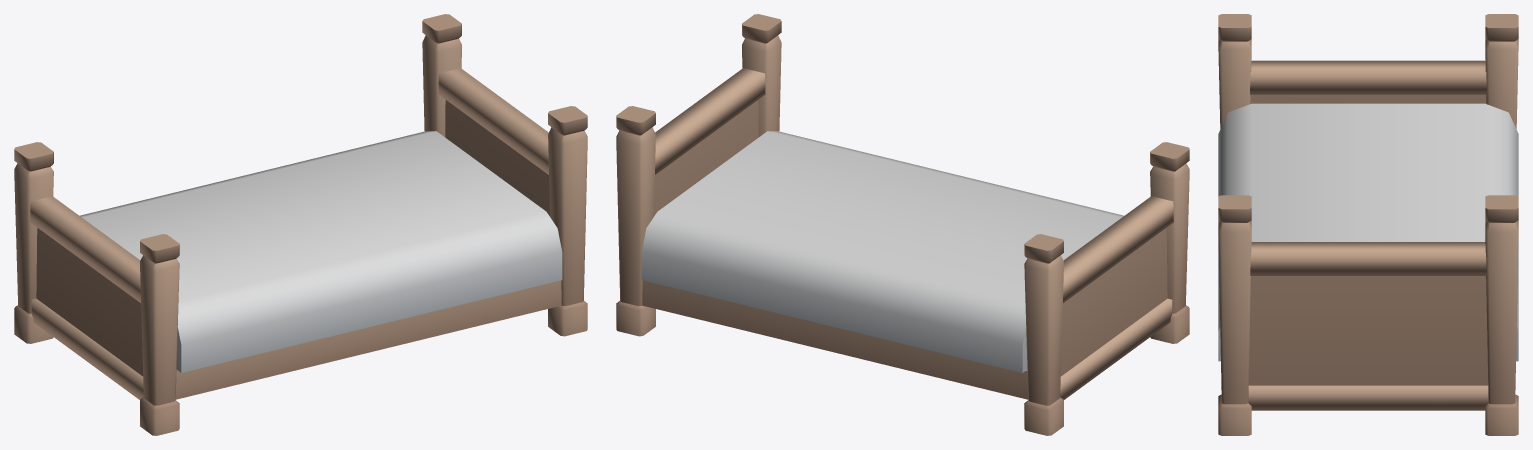
The model's file is bed-detail-carved-single.glb.
3 renders of one model, left to right at view 1: azimuth 30°, elevation 25°; view 2: azimuth 150°, elevation 25°; view 3: azimuth 270°, elevation 25°, orthographic. The views are drawn at different scales.
Visible parts, largest first — view 1: bed-detail-carved-single; view 2: bed-detail-carved-single; view 3: bed-detail-carved-single.
Part boxes in pixels (x1,y1,x2,y2): bed-detail-carved-single: (14, 14, 587, 435); bed-detail-carved-single: (616, 14, 1189, 435); bed-detail-carved-single: (1218, 14, 1518, 435).
Size of the model in its own units: 1.6 by 0.75 by 0.9.
